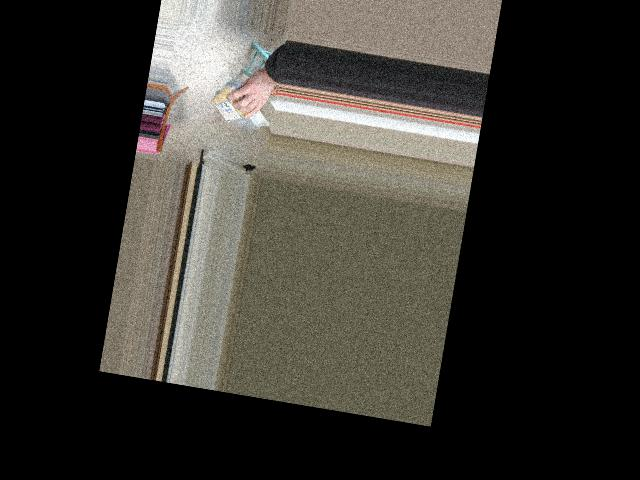cheese: (209, 88, 275, 130)
